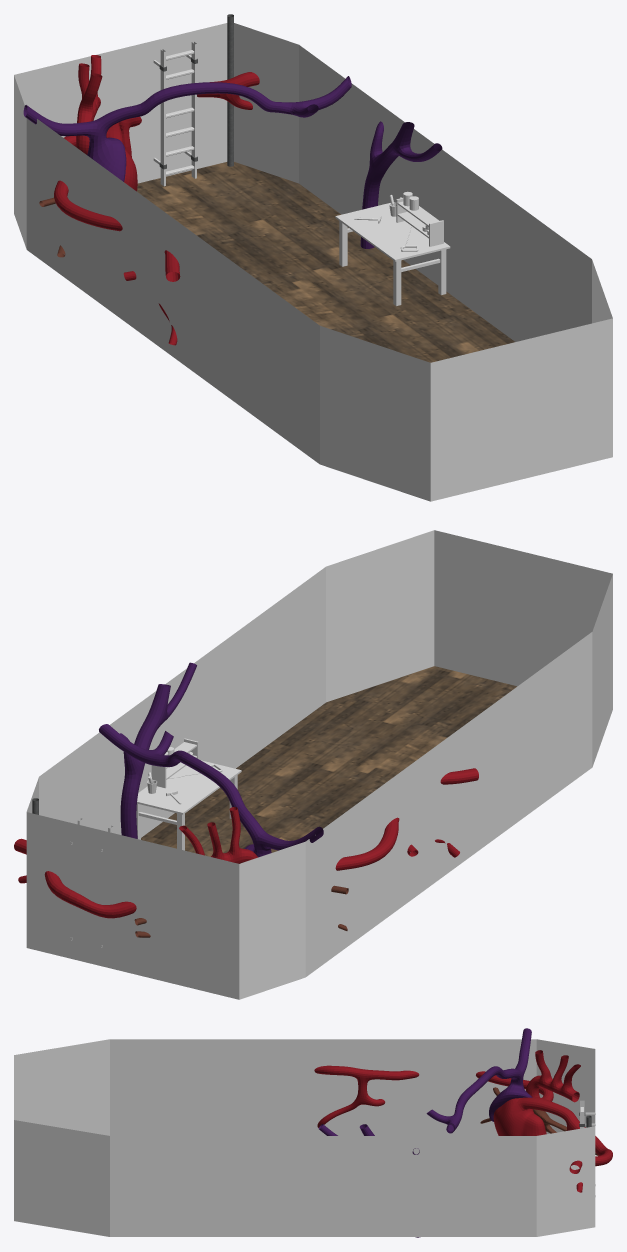
The model's file is Pod pokładem v2.fbx.
3 renders of one model, top to bottom at view 1: azimuth 30°, elevation 25°; view 2: azimuth 150°, elevation 25°; view 3: azimuth 270°, elevation 25°, orthographic. The views are drawn at different scales.
Visible parts, largest first — view 1: Pomieszczenie, Serce_2, Serce_1, Stół_Blat, Żyła, Drabina, Stół_Nogi, Stół_Półka, Rura.001; view 2: Pomieszczenie, Serce_1, Serce_2, Żyła, Stół_Blat, Stół_Półka, Stół_Nogi; view 3: Pomieszczenie, Serce_1, Serce_2, Serce_3.
Boxes of the visible parts, x1,y1,x2,y2 form: Pomieszczenie: (14,23,612,501); Serce_2: (23,76,351,181); Serce_1: (54,55,259,345); Stół_Blat: (335,203,450,261); Żyła: (360,121,442,248); Drabina: (160,41,196,186); Stół_Nogi: (339,221,446,306); Stół_Półka: (396,198,443,246); Rura.001: (227,14,233,166); Pomieszczenie: (26,530,612,999); Serce_1: (14,768,478,918); Serce_2: (99,724,323,857); Żyła: (120,662,196,838); Stół_Blat: (137,760,241,814); Stół_Półka: (151,738,198,788); Stół_Nogi: (136,775,237,850); Pomieszczenie: (14,1039,595,1236); Serce_1: (314,1050,612,1192); Serce_2: (426,1028,532,1133); Serce_3: (480,1087,598,1155).
Size of the model in its own units: 457 by 237 by 1074.
